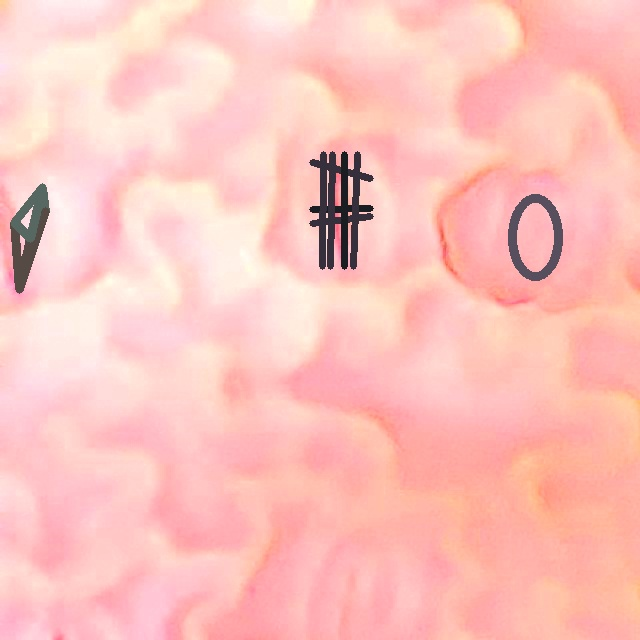close: (508, 193, 562, 281)
open: (309, 151, 372, 269), (10, 183, 49, 293)
